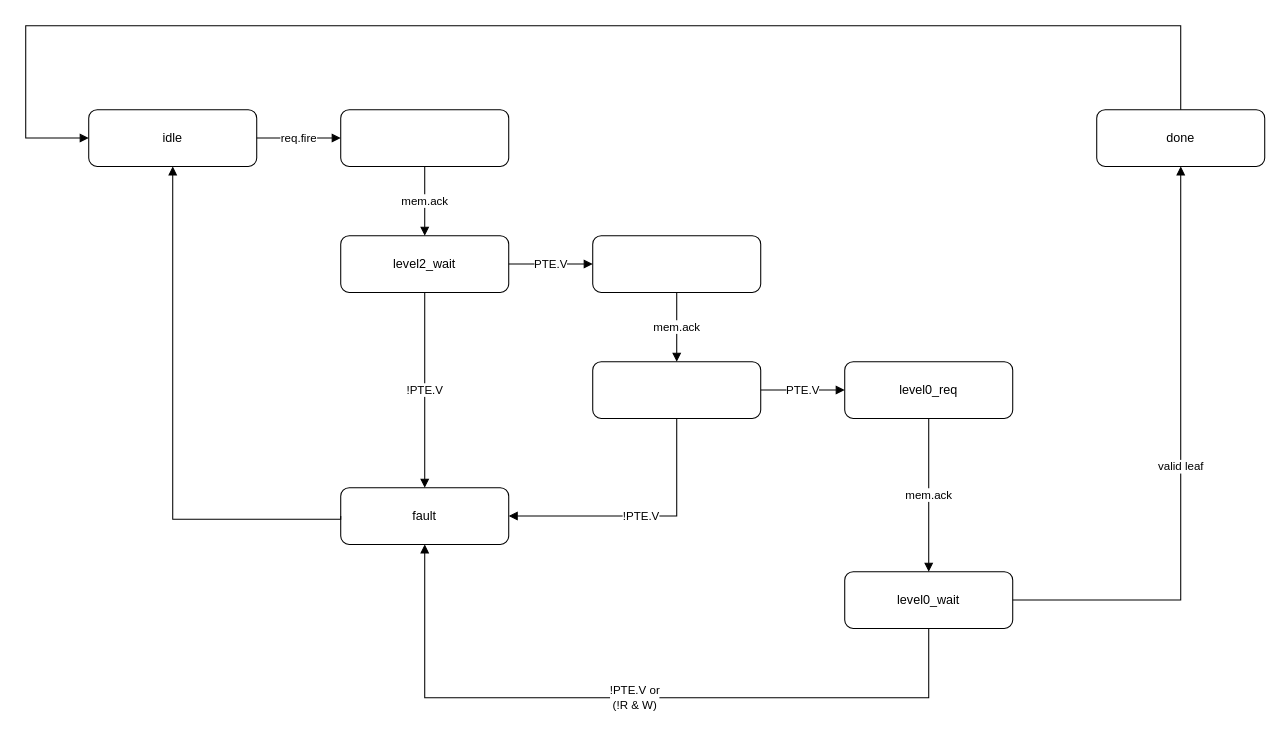
Some shapes in this 1283 by 730 pixel diagram are drawn without their labels. Each missing label, with the centre of its shape:
level1_req: the point at 676,263
level1_wait: the point at 676,389
level2_req: the point at 424,137
